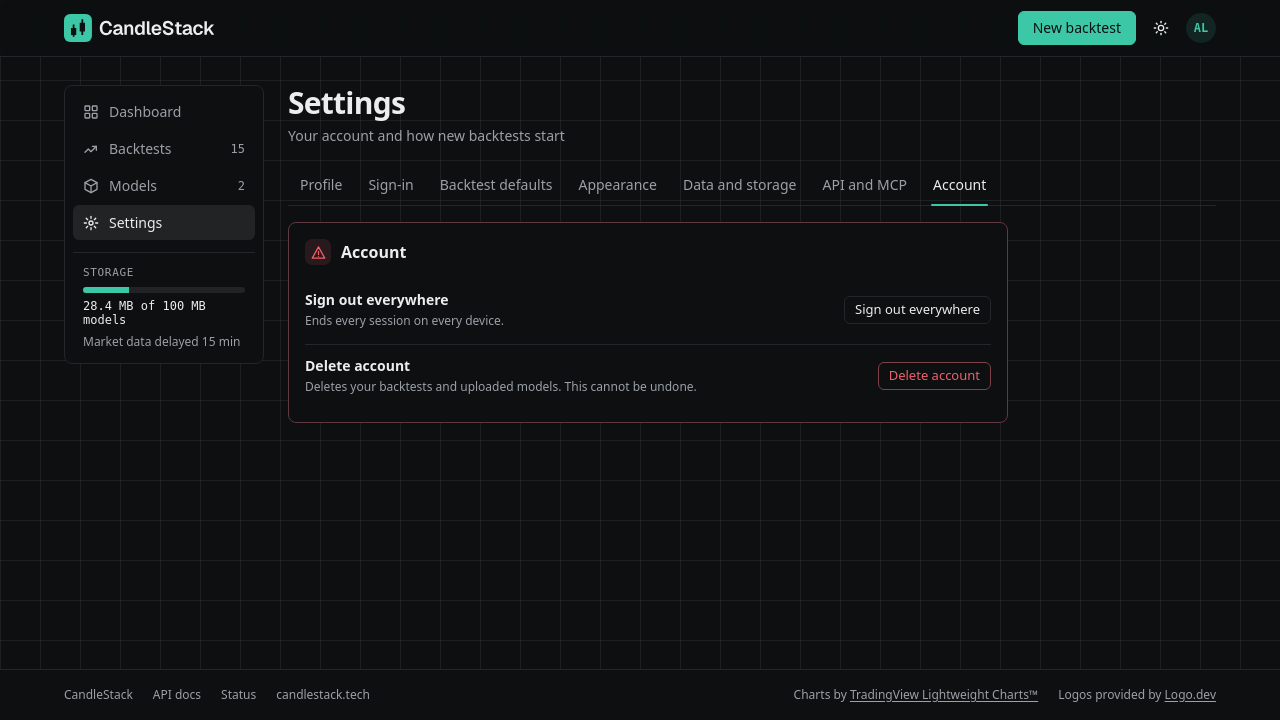
it: Account › says how many backtests and uploaded models go with the account
This screenshot has width=1280, height=720.
Click the button "Delete account" at {"x": 934, "y": 376}, box [878,362,991,390]
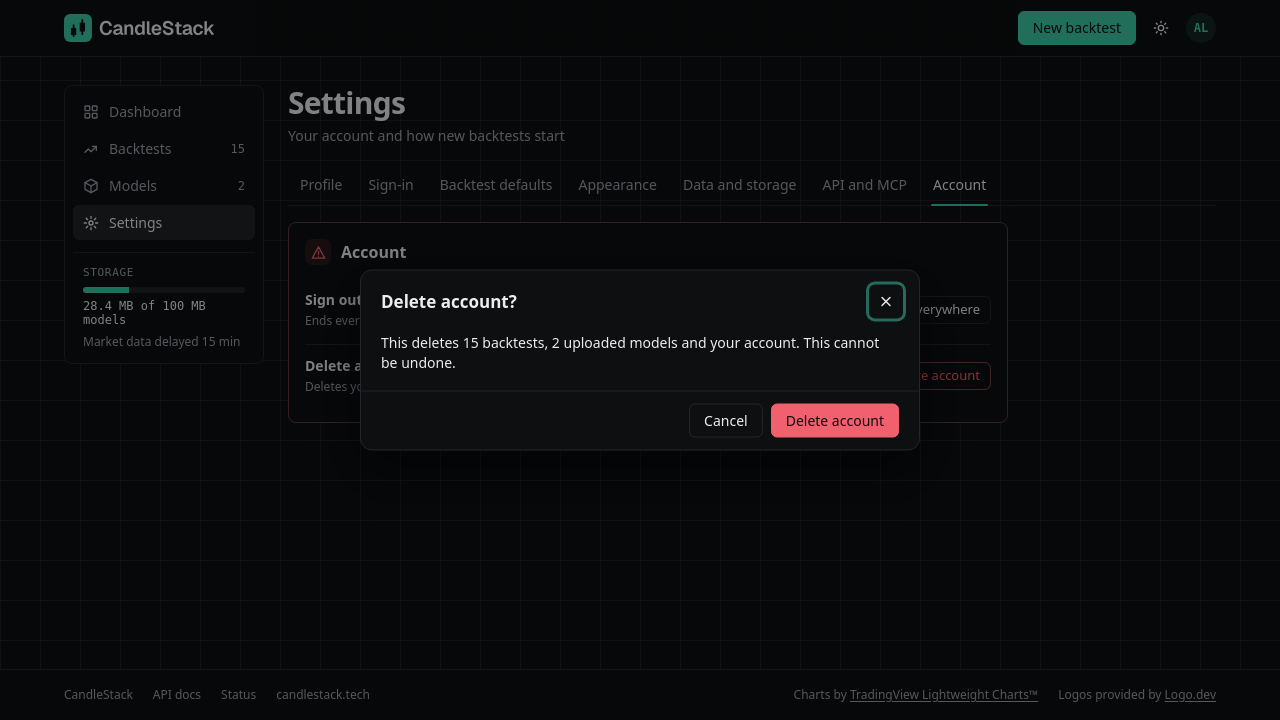
Result: the text "This deletes 15 backtests, 2 uploaded models and your account. This cannot be undone." is shown at [381,332,879,372]
